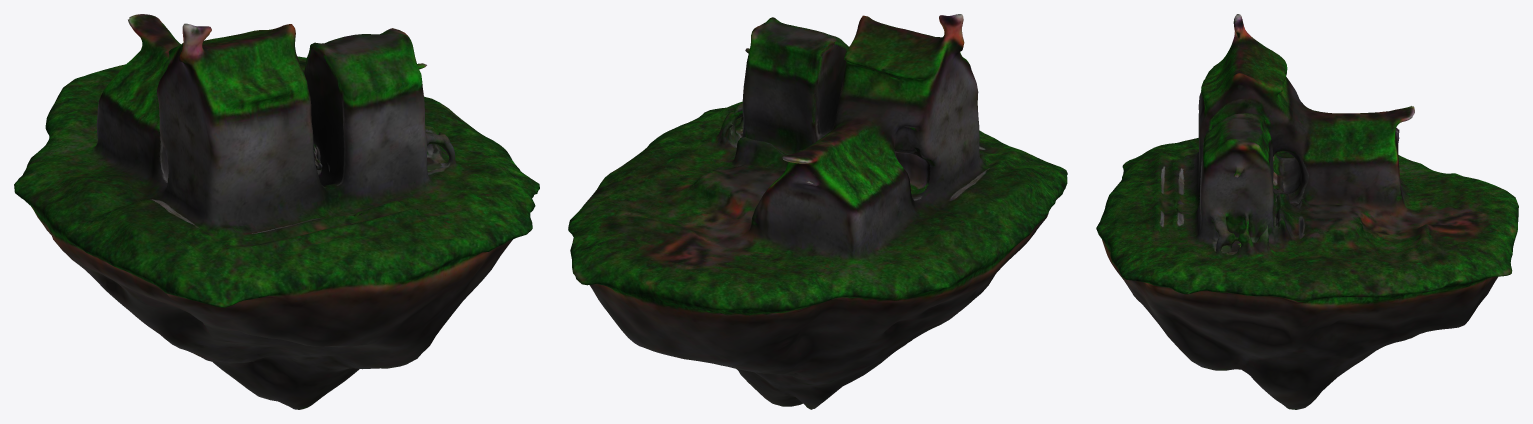
The model's file is 93090b8498ba_high_resolution_rea.fbx.
3 renders of one model, left to right at view 1: azimuth 30°, elevation 25°; view 2: azimuth 150°, elevation 25°; view 3: azimuth 270°, elevation 25°, orthographic. The views are drawn at different scales.
Visible parts, largest first — view 1: mesh; view 2: mesh; view 3: mesh.
Part boxes in pixels (x1=…): mesh: x1=14, y1=14, x2=539, y2=409; mesh: x1=568, y1=14, x2=1067, y2=409; mesh: x1=1096, y1=14, x2=1518, y2=409.
Bounding box in the file's own units: 86.04 × 87.51 × 99.24.
